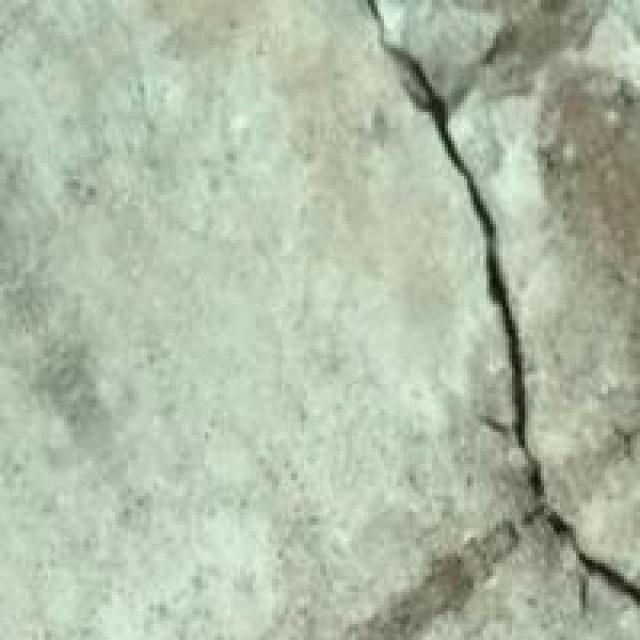crack: (336, 0, 637, 637)
